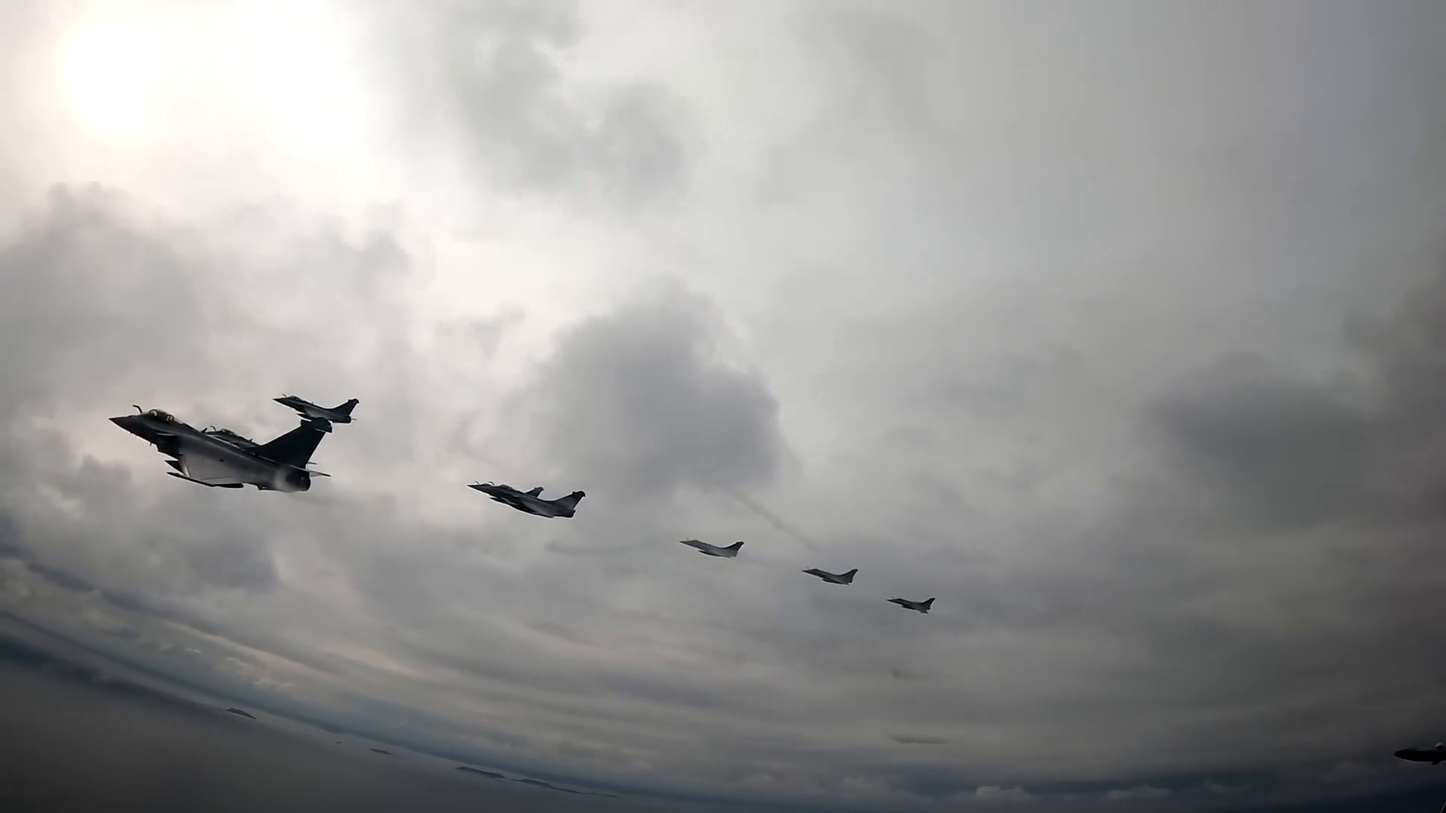Rafale: (106, 403, 334, 496), (465, 481, 587, 519), (271, 392, 360, 426), (678, 537, 744, 559), (803, 565, 861, 587), (888, 593, 938, 615)
